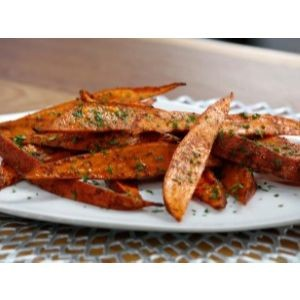sweet potato_brain food: (21, 79, 277, 188)
